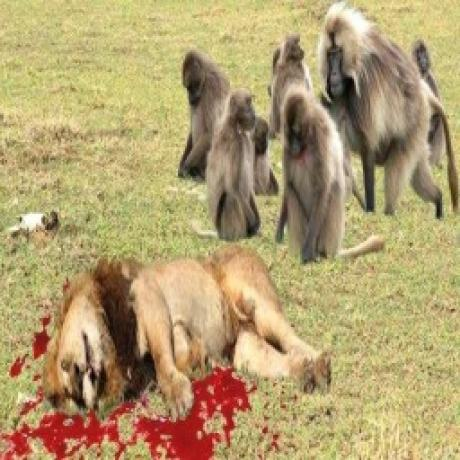Lion: (40, 244, 333, 414)
